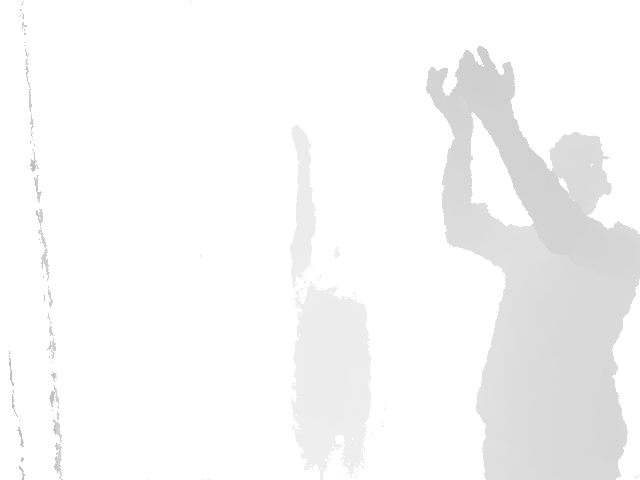hand: (454, 45, 517, 107), (427, 66, 476, 124), (291, 124, 313, 154)
head: (547, 131, 613, 220)
person: (425, 45, 640, 480), (288, 123, 374, 480)
